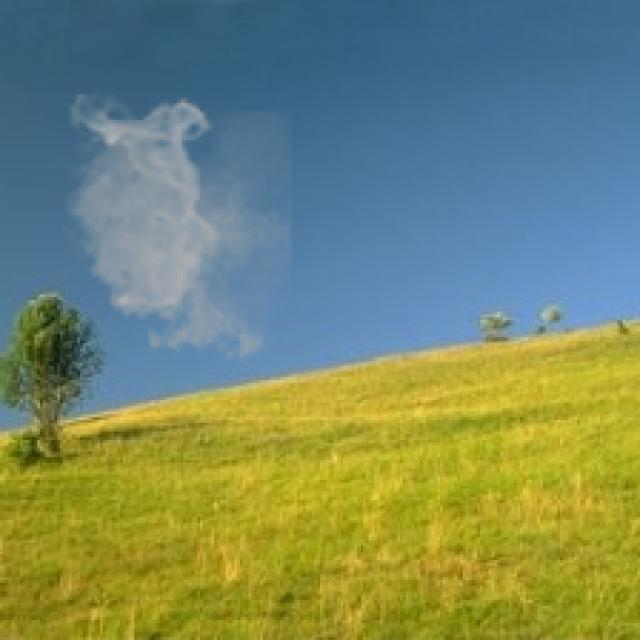Smoke: (57, 94, 292, 369)
